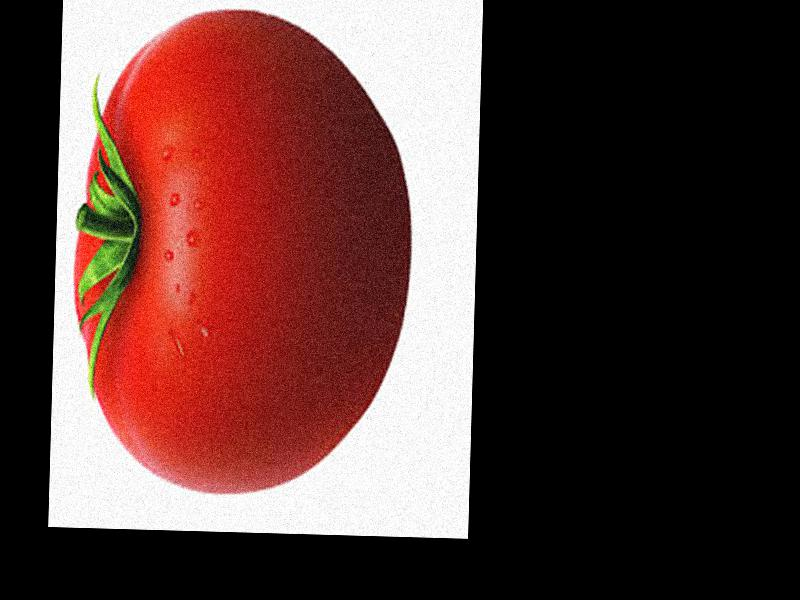Tomato: (69, 6, 418, 441)
